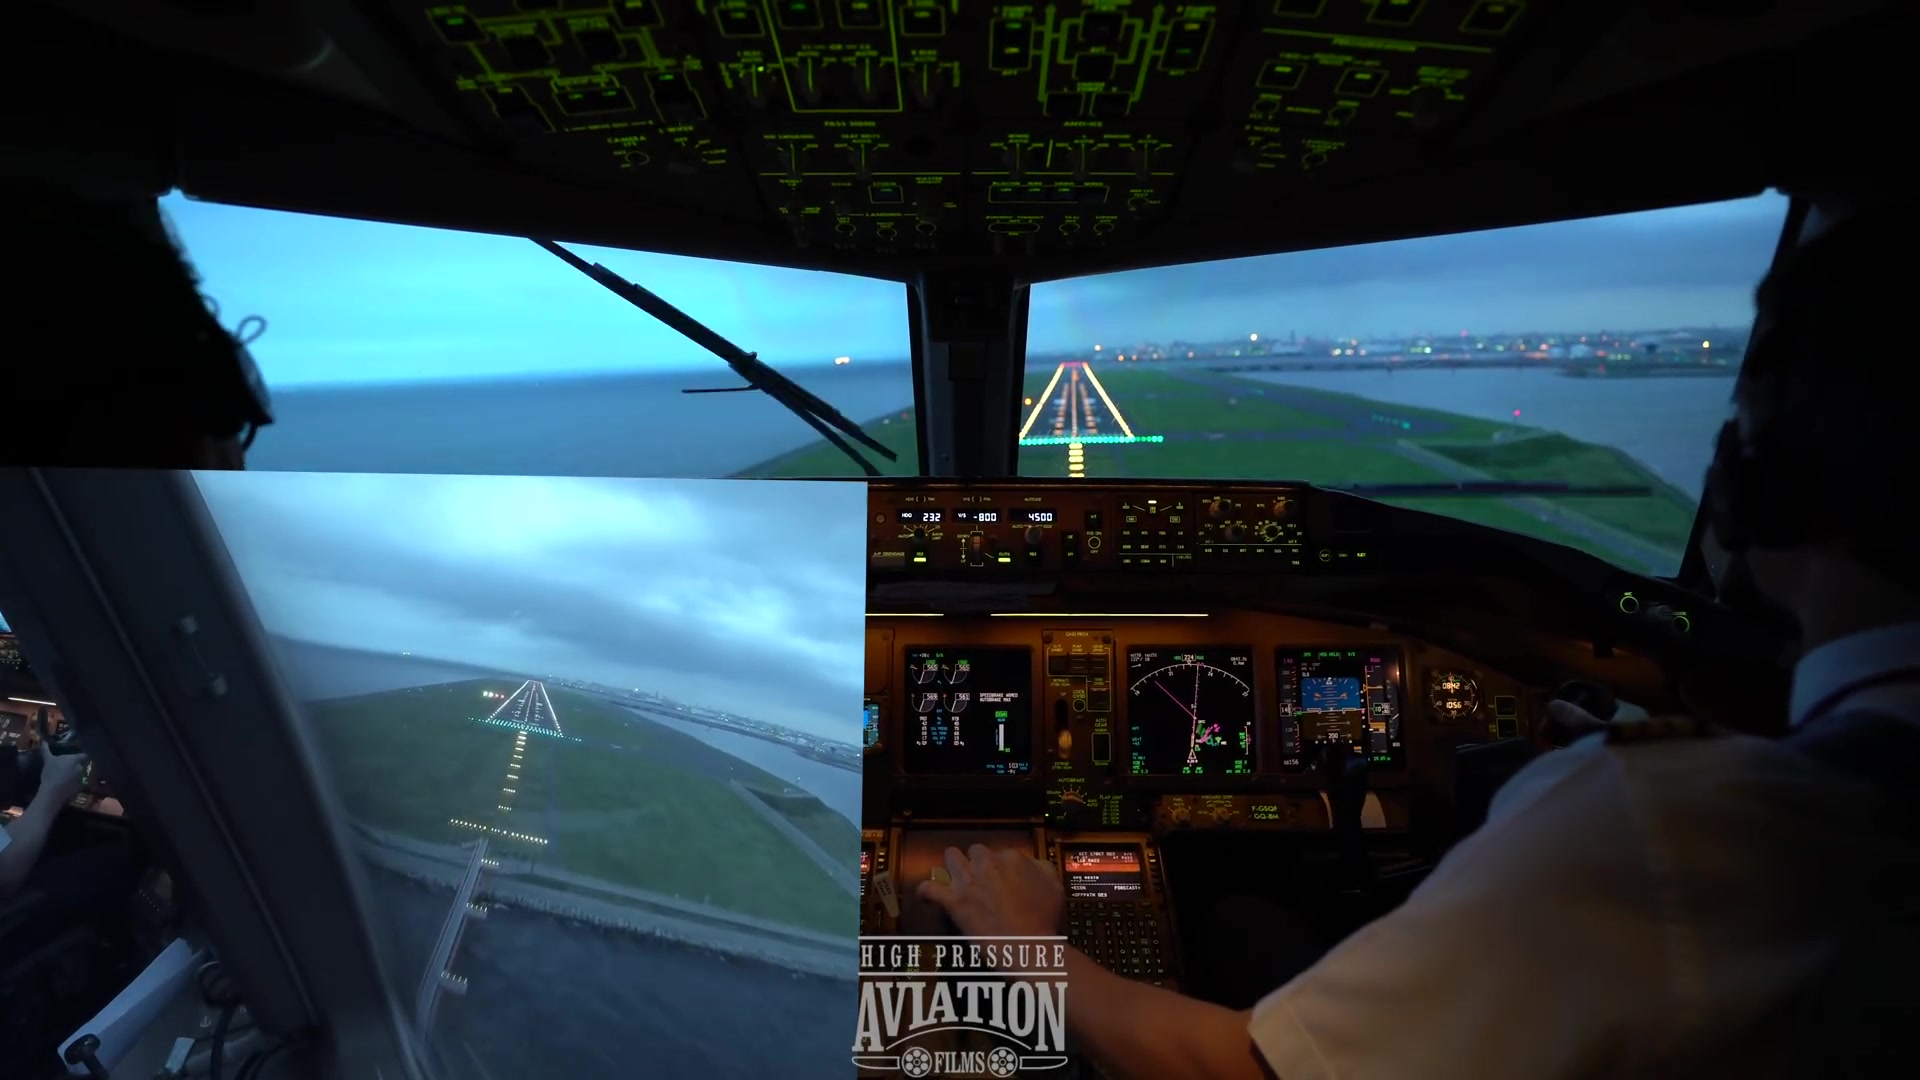runway: (1007, 356, 1139, 444), (487, 680, 567, 741)
